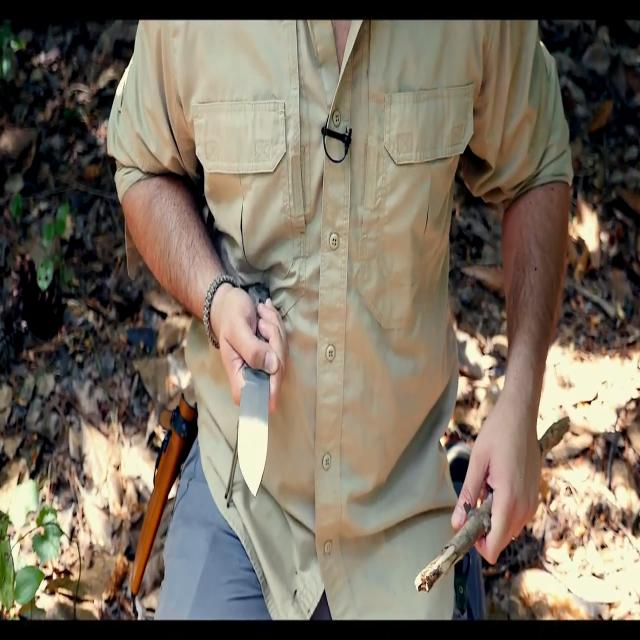knife: (235, 363, 275, 503)
